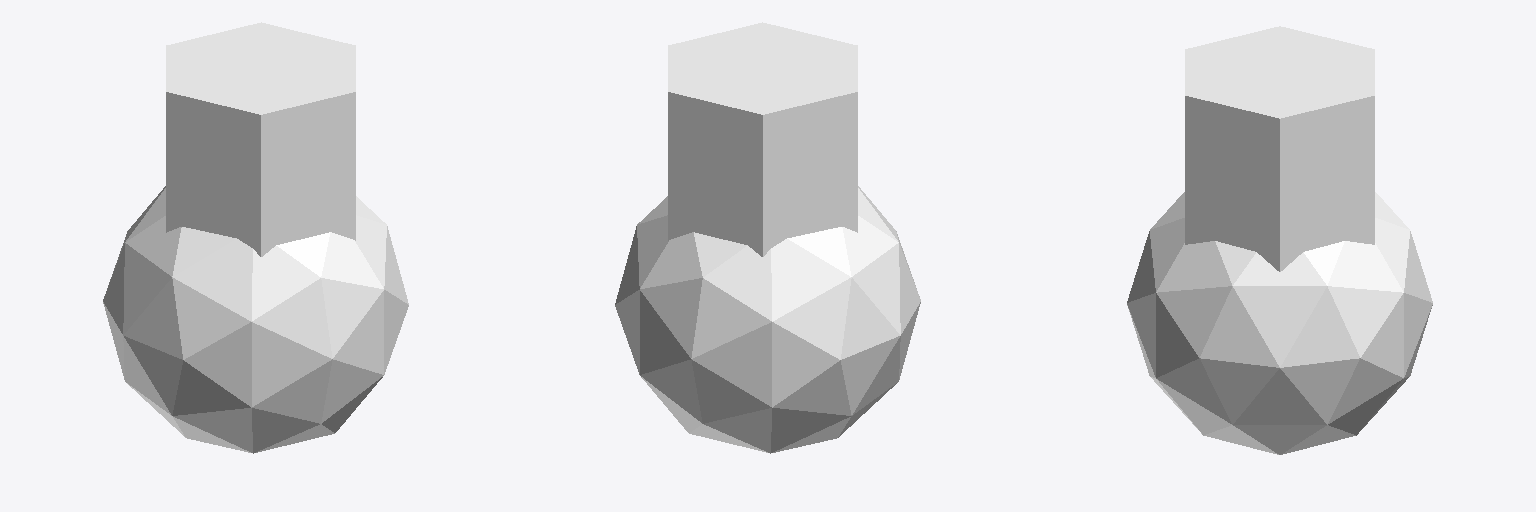
The model's file is Bulb.obj.
3 renders of one model, left to right at view 1: azimuth 30°, elevation 25°; view 2: azimuth 150°, elevation 25°; view 3: azimuth 270°, elevation 25°, orthographic.
Parts seen in each view (by area): view 1: Bulb; view 2: Bulb; view 3: Bulb.
Boxes of the visible parts, <box> form: Bulb: <box>103,22,408,453</box>; Bulb: <box>615,22,920,453</box>; Bulb: <box>1127,26,1432,454</box>.
Size of the model in its own units: 0.14 by 0.1875 by 0.14.